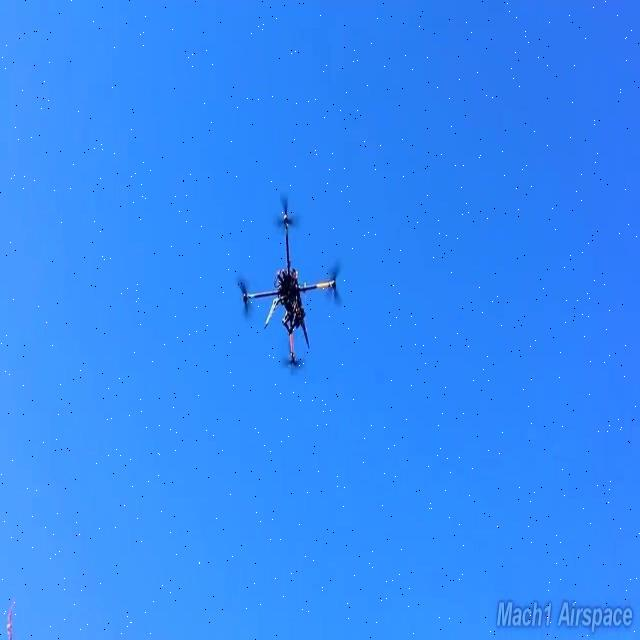UAV: (238, 195, 342, 368)
